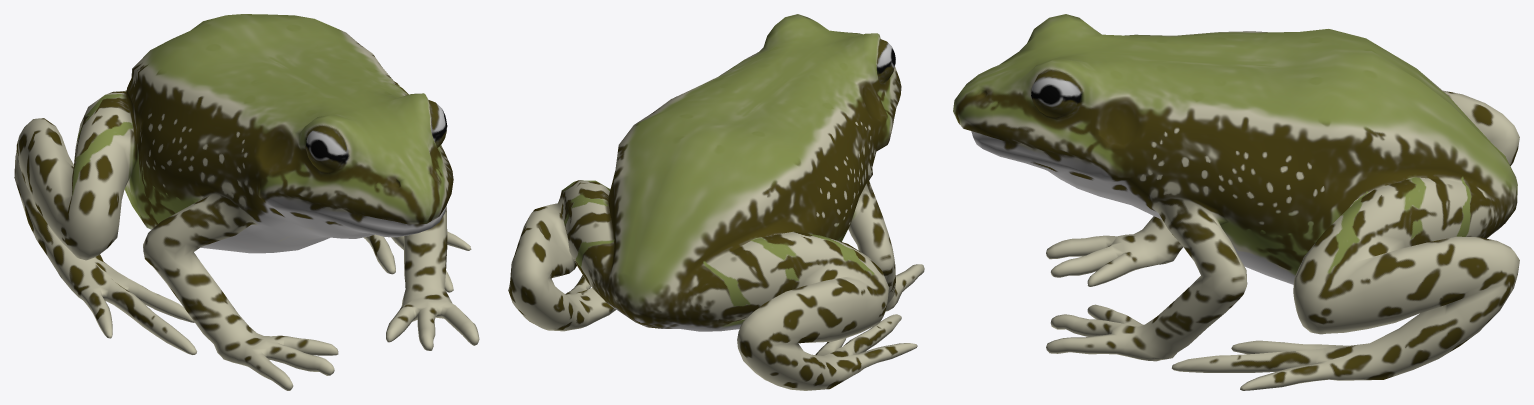
File: frog.FBX
3 renders of one model, left to right at view 1: azimuth 30°, elevation 25°; view 2: azimuth 150°, elevation 25°; view 3: azimuth 270°, elevation 25°, orthographic. The views are drawn at different scales.
Visible parts, largest first — view 1: frog; view 2: frog; view 3: frog.
Boxes of the visible parts, left/top/right/bottom form: frog: left=14, top=14, right=479, bottom=390; frog: left=508, top=14, right=924, bottom=390; frog: left=953, top=14, right=1519, bottom=390.
Bounding box in the file's own units: 0.379 × 0.2525 × 0.4835.
Materials: 1 (1 with a texture image).
